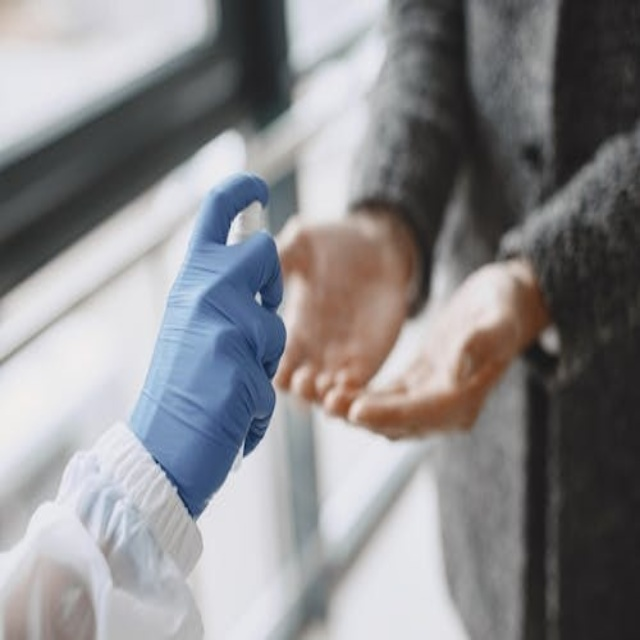Guantes: (114, 148, 291, 505)
Sin_guantes: (343, 256, 549, 442), (257, 190, 415, 419)
